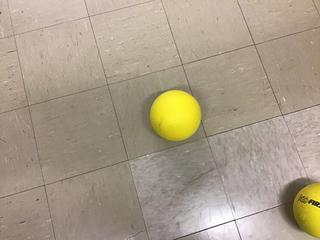power_cell: (145, 90, 202, 144)
